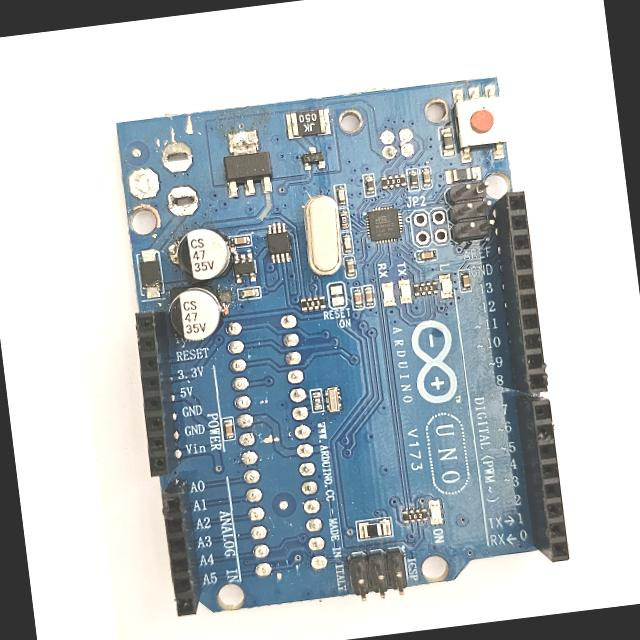missing_atmega: (220, 310, 331, 586)
missing_eps: (130, 111, 216, 224)
missing_usb: (334, 85, 442, 176)
